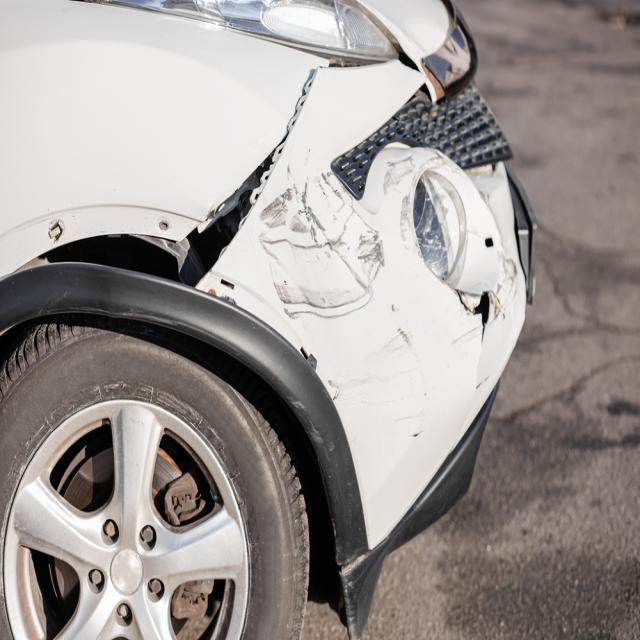crack: (455, 288, 489, 349)
scratch: (258, 176, 383, 317), (383, 143, 417, 257)
